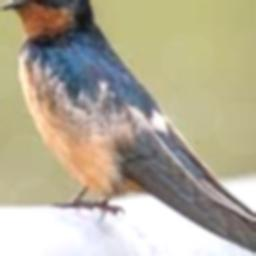Swallow: (3, 0, 256, 256)
